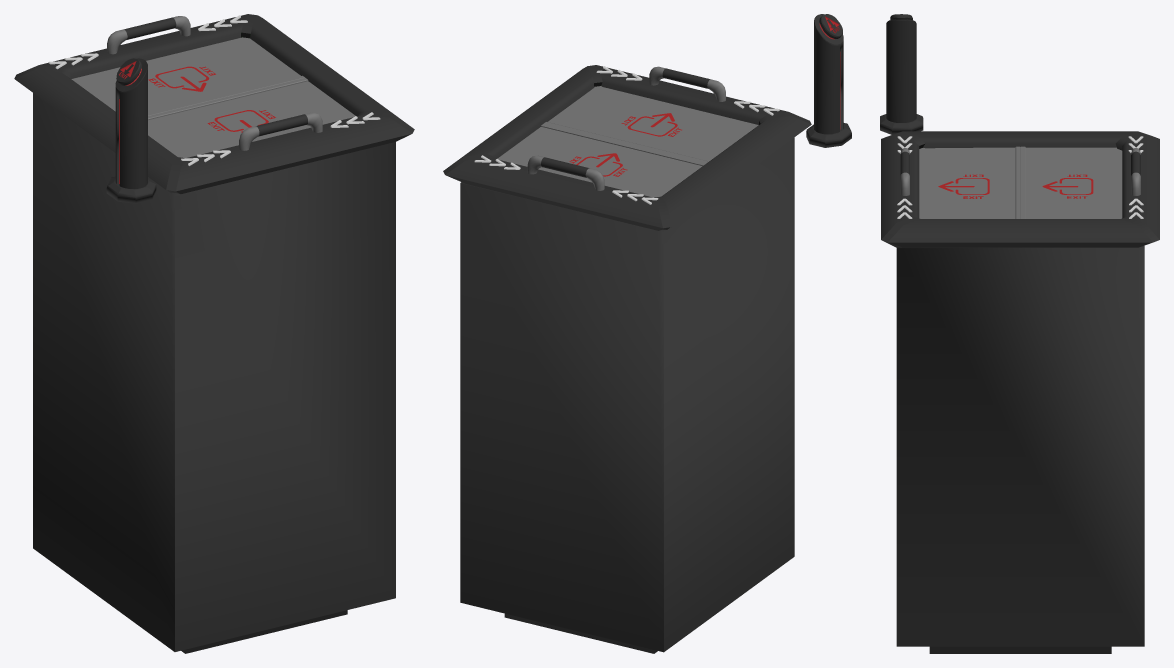
3 renders of one model, left to right at view 1: azimuth 30°, elevation 25°; view 2: azimuth 150°, elevation 25°; view 3: azimuth 270°, elevation 25°, orthographic. The views are drawn at different scales.
Parts seen in each view (by area): view 1: elevator_exit; view 2: elevator_exit; view 3: elevator_exit.
Part boxes in pixels (x1,y1,x2,y2): elevator_exit: (14, 14, 414, 653); elevator_exit: (443, 14, 851, 653); elevator_exit: (880, 14, 1159, 653).
Bounding box in the file's own units: 1.77 × 3.57 × 1.66.
3 materials, 2 textured.
